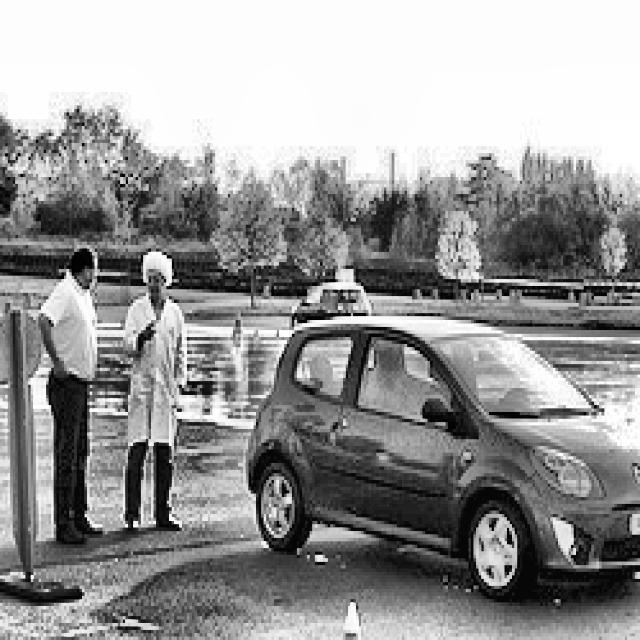light_vehicle: (246, 314, 640, 610), (276, 269, 374, 320)
